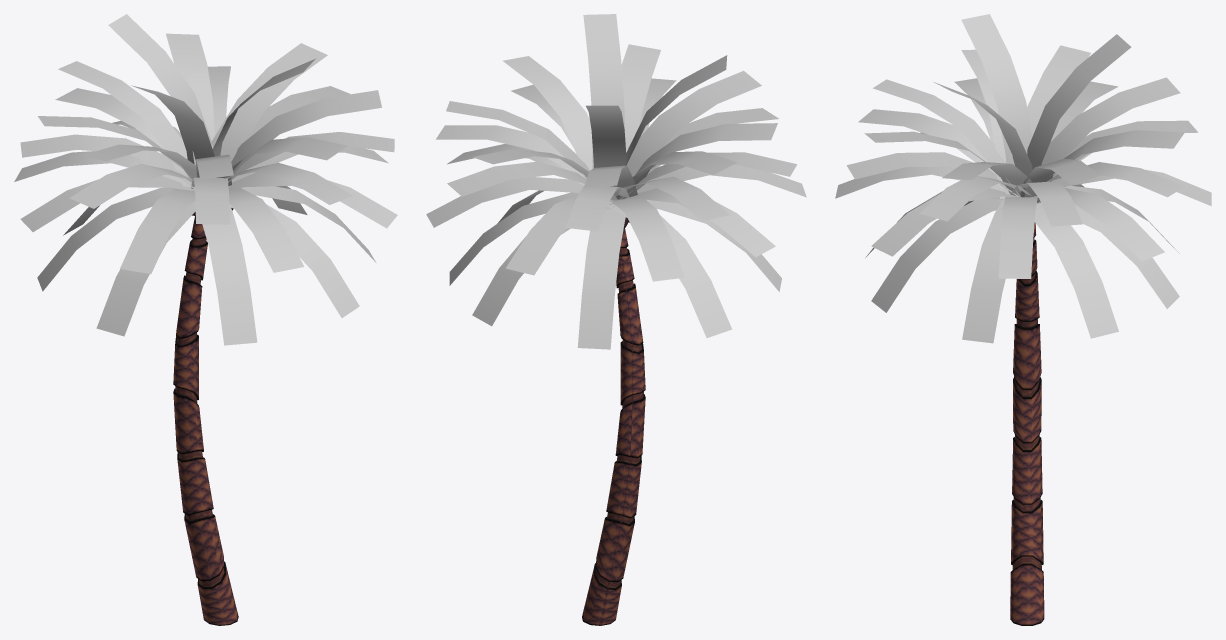
Rendered from Prop_Palmera4.fbx.
3 renders of one model, left to right at view 1: azimuth 30°, elevation 25°; view 2: azimuth 150°, elevation 25°; view 3: azimuth 270°, elevation 25°, orthographic. The views are drawn at different scales.
Visible parts, largest first — view 1: Hoja_LargaAzul.006; view 2: Hoja_LargaAzul.006; view 3: Hoja_LargaAzul.006.
Boxes of the visible parts, x1,y1,x2,y2 form: Hoja_LargaAzul.006: (14, 14, 397, 625); Hoja_LargaAzul.006: (426, 14, 806, 625); Hoja_LargaAzul.006: (835, 14, 1211, 625).
Size of the model in its own units: 4.41 by 7.15 by 4.4.
